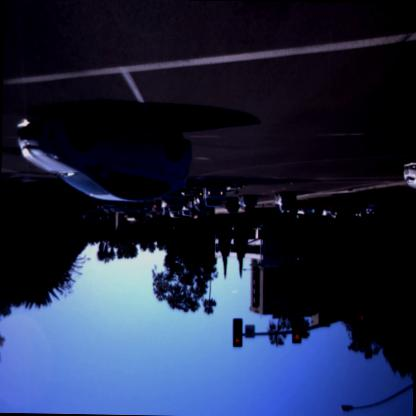trafficlight: (233, 315, 248, 351), (355, 296, 371, 328), (289, 310, 303, 346)
